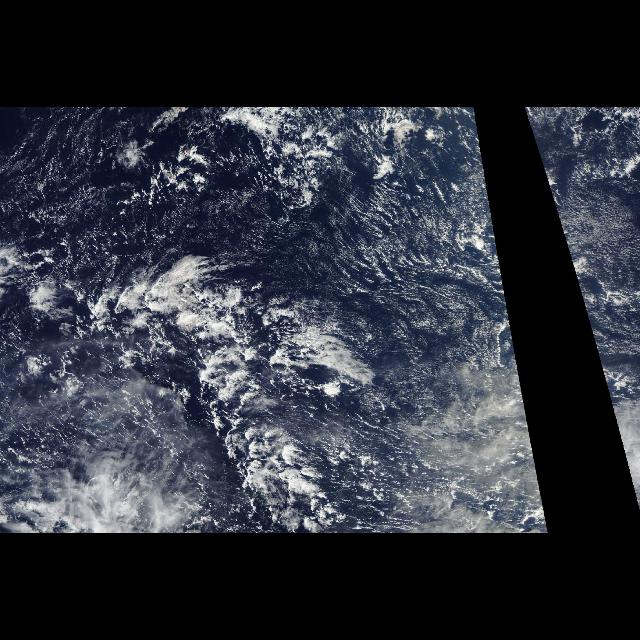Gravel: (178, 307, 294, 499)
Sugar: (360, 211, 488, 341)
